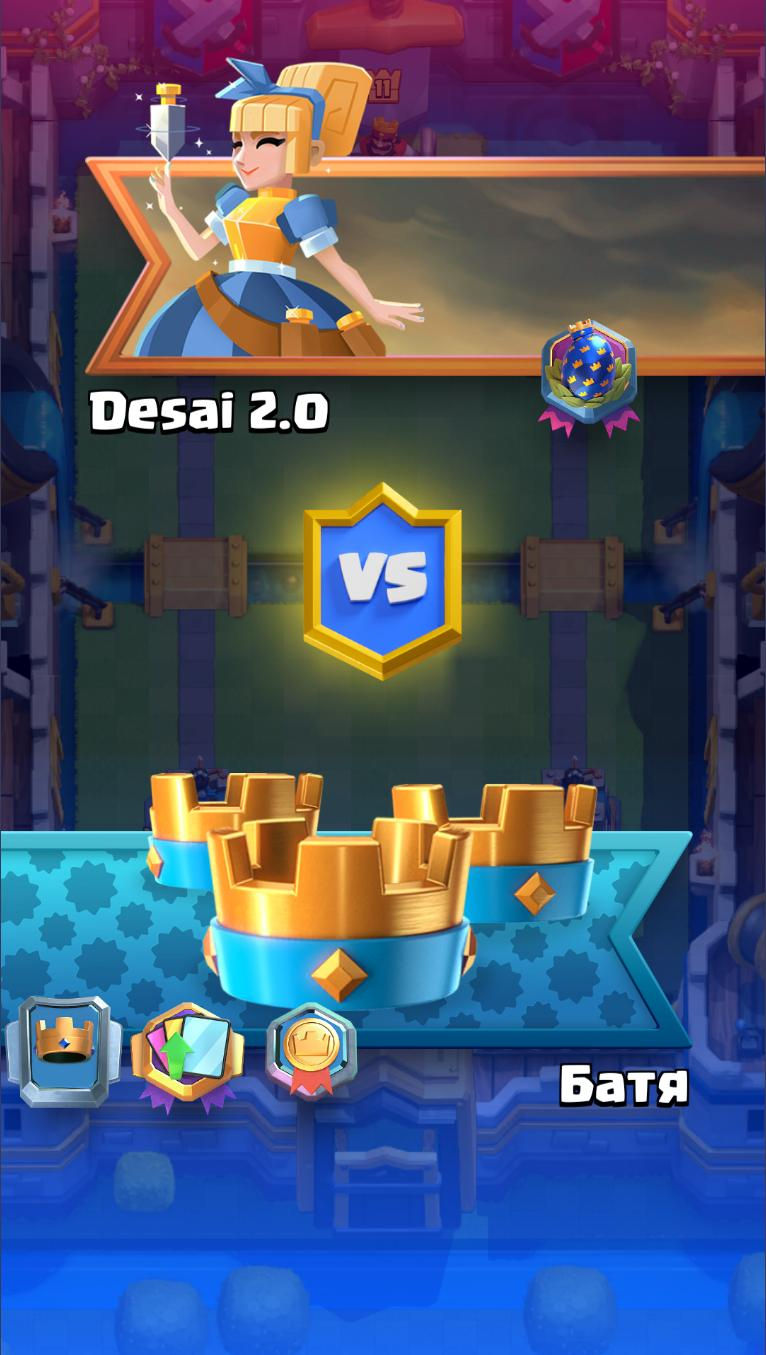GameStart: (0, 772, 695, 1121)
